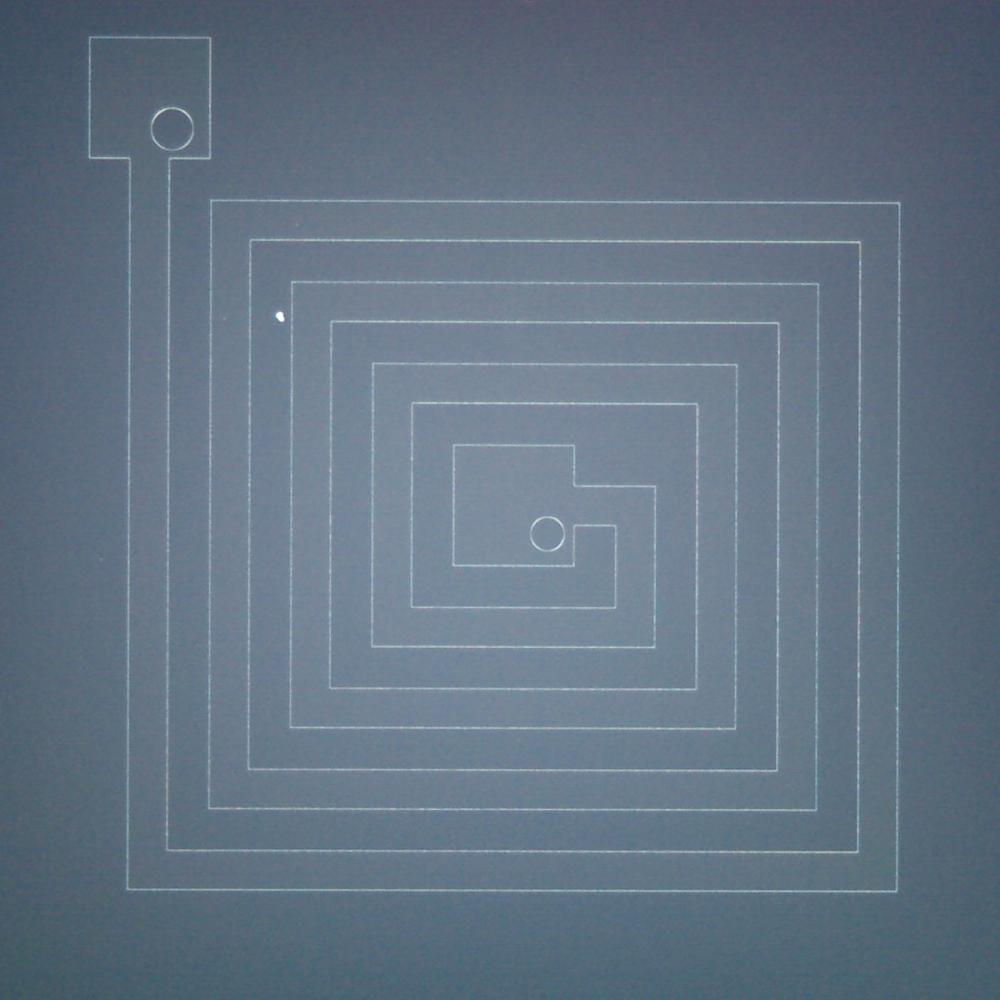dot: (275, 312, 285, 322)
